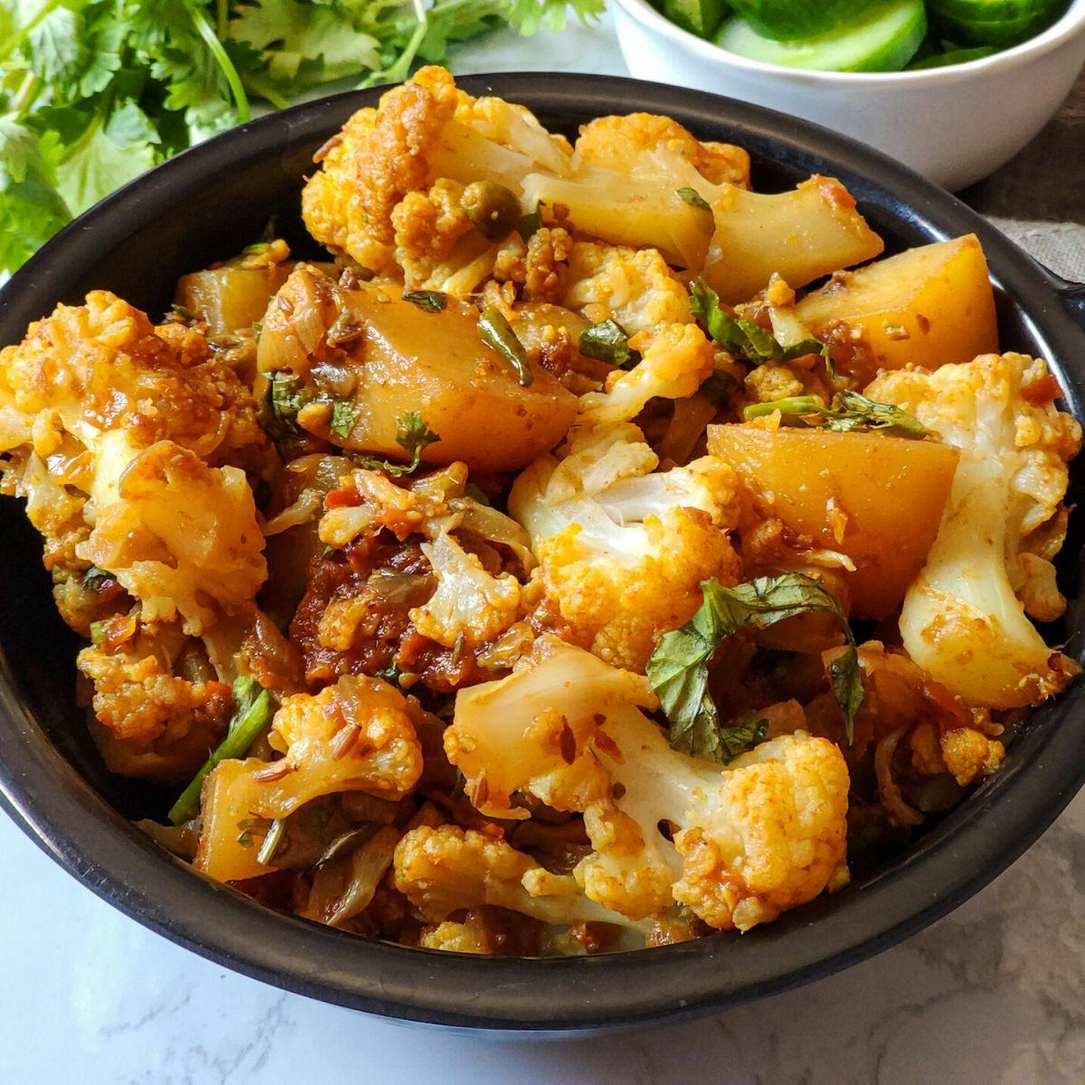AlooGobi: (3, 61, 1083, 959)
